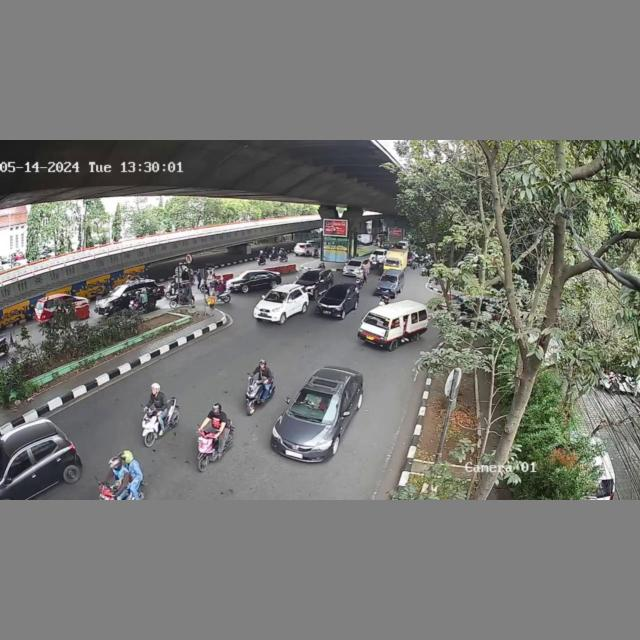windshield: (291, 388, 338, 423), (361, 310, 392, 330), (323, 287, 349, 300), (262, 291, 290, 301)
